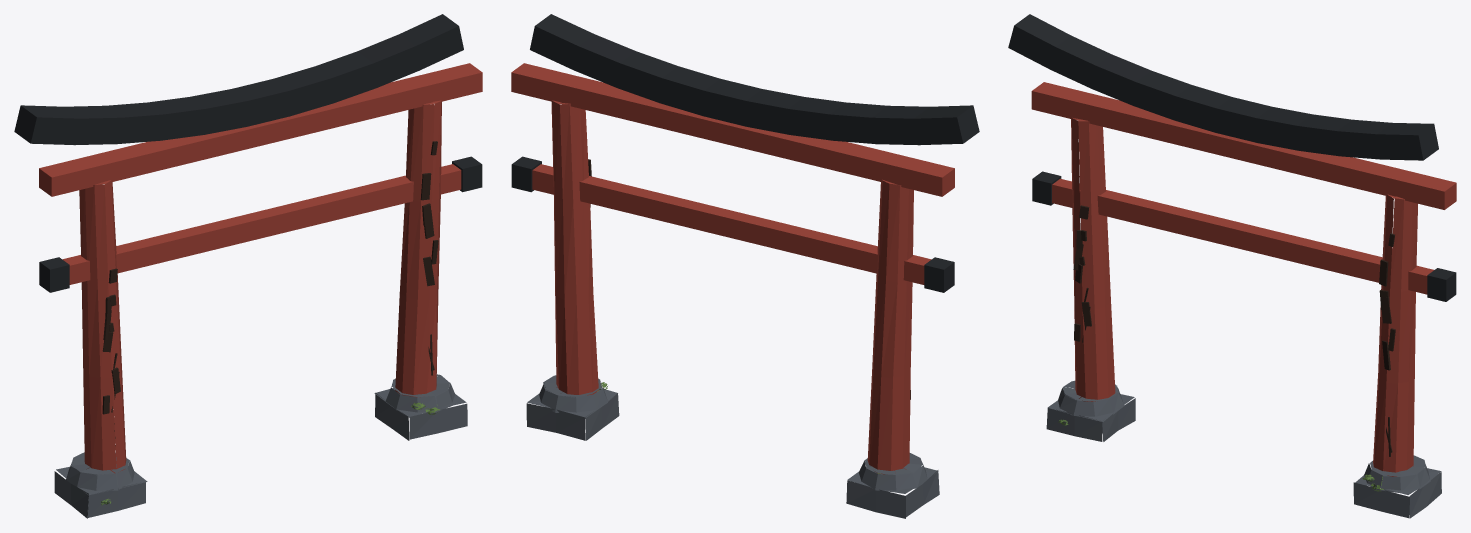
File: 2-05_torii_old.glb
3 renders of one model, left to right at view 1: azimuth 30°, elevation 25°; view 2: azimuth 150°, elevation 25°; view 3: azimuth 330°, elevation 25°, orthographic. The views are drawn at different scales.
Visible parts, largest first — view 1: 破損・古い鳥居; view 2: 破損・古い鳥居; view 3: 破損・古い鳥居.
Part boxes in pixels (box(x1,y1,x2,y2)): 破損・古い鳥居: box(14, 14, 482, 518); 破損・古い鳥居: box(511, 14, 979, 518); 破損・古い鳥居: box(1008, 14, 1456, 518).
Size of the model in its own units: 7.01 by 5.99 by 0.997.
